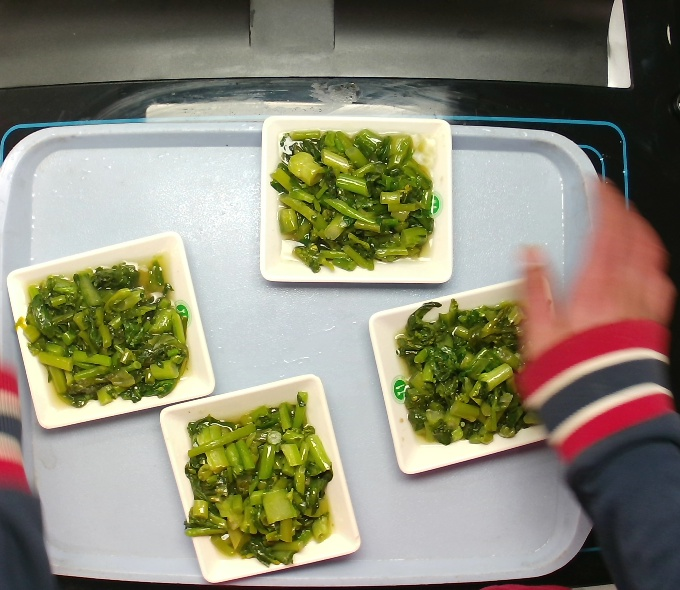wcq-YouCaiHua: (379, 287, 582, 452), (177, 386, 349, 565), (20, 250, 193, 407), (274, 120, 437, 272)
